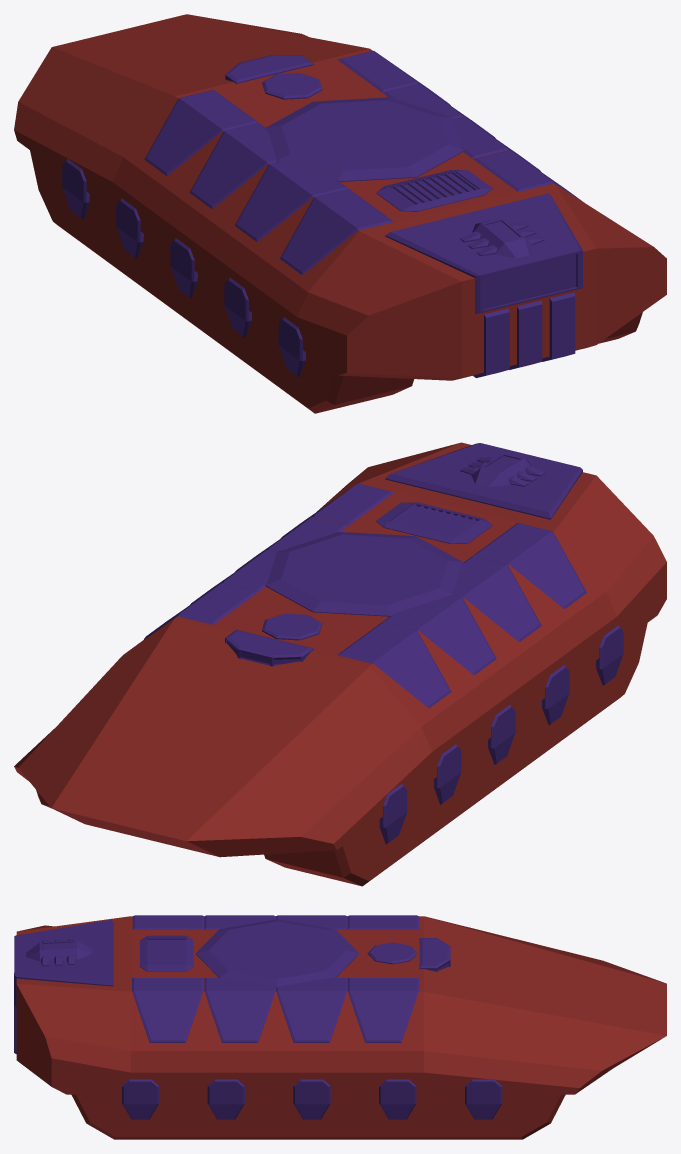
File: Falcon.fbx
The picture shows the model from 3 angles, top to bottom: view 1: azimuth 30°, elevation 25°; view 2: azimuth 150°, elevation 25°; view 3: azimuth 270°, elevation 25°; orthographic projection. The views are drawn at different scales.
Visible parts, largest first — view 1: Body, Parts; view 2: Body, Parts; view 3: Body, Parts.
Part boxes in pixels (<box>): Body: <box>14,14,666,413</box>; Parts: <box>62,51,582,377</box>; Body: <box>14,442,666,886</box>; Parts: <box>144,443,623,844</box>; Body: <box>16,916,666,1139</box>; Parts: <box>14,915,502,1119</box>.
Bounding box in the file's own units: 2.03 × 1.04 × 4.46.
